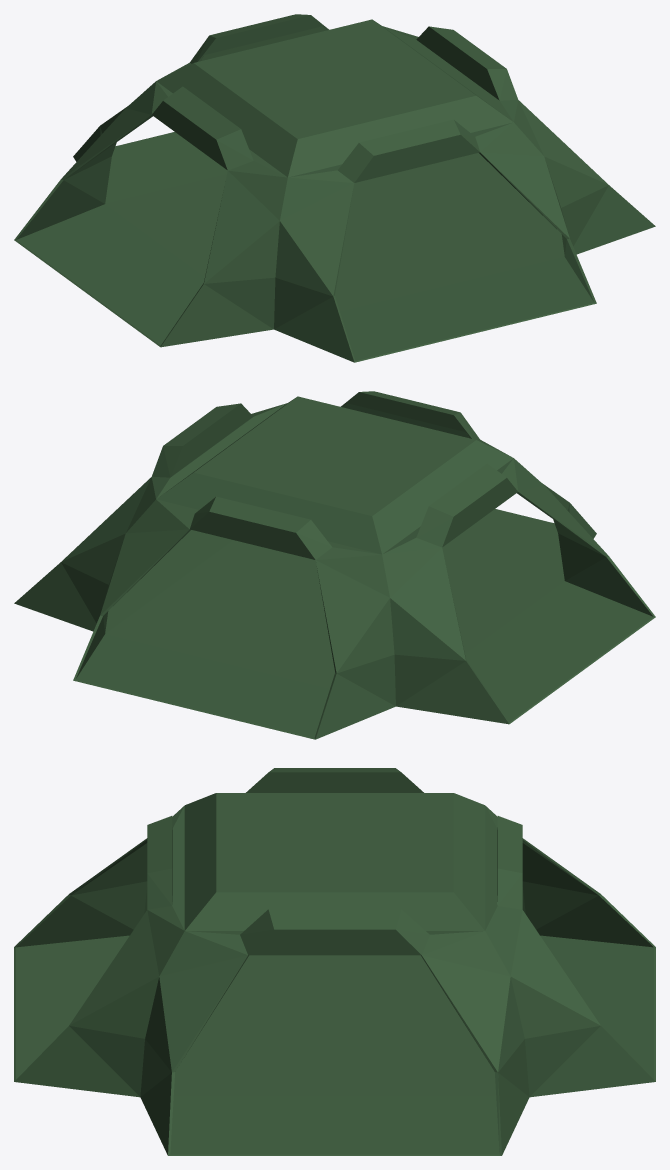
The picture shows the model from 3 angles, top to bottom: view 1: azimuth 30°, elevation 25°; view 2: azimuth 150°, elevation 25°; view 3: azimuth 270°, elevation 25°; orthographic projection. The views are drawn at different scales.
Parts seen in each view (by area): view 1: Cube; view 2: Cube; view 3: Cube.
Boxes of the visible parts, box(x1,y1,x2,y2) form: Cube: box(14, 14, 655, 362); Cube: box(14, 391, 655, 739); Cube: box(14, 768, 655, 1155).
Size of the model in its own units: 10.47 by 10.3 by 3.14.
